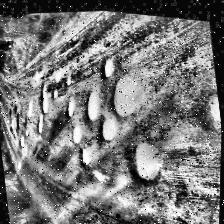pothole: (125, 134, 169, 186), (108, 68, 153, 118), (194, 83, 223, 128), (94, 113, 124, 143), (94, 52, 122, 78), (34, 80, 54, 116), (28, 107, 52, 137), (82, 88, 104, 120), (66, 120, 90, 144), (73, 144, 95, 166), (64, 98, 80, 119), (15, 133, 29, 149)
